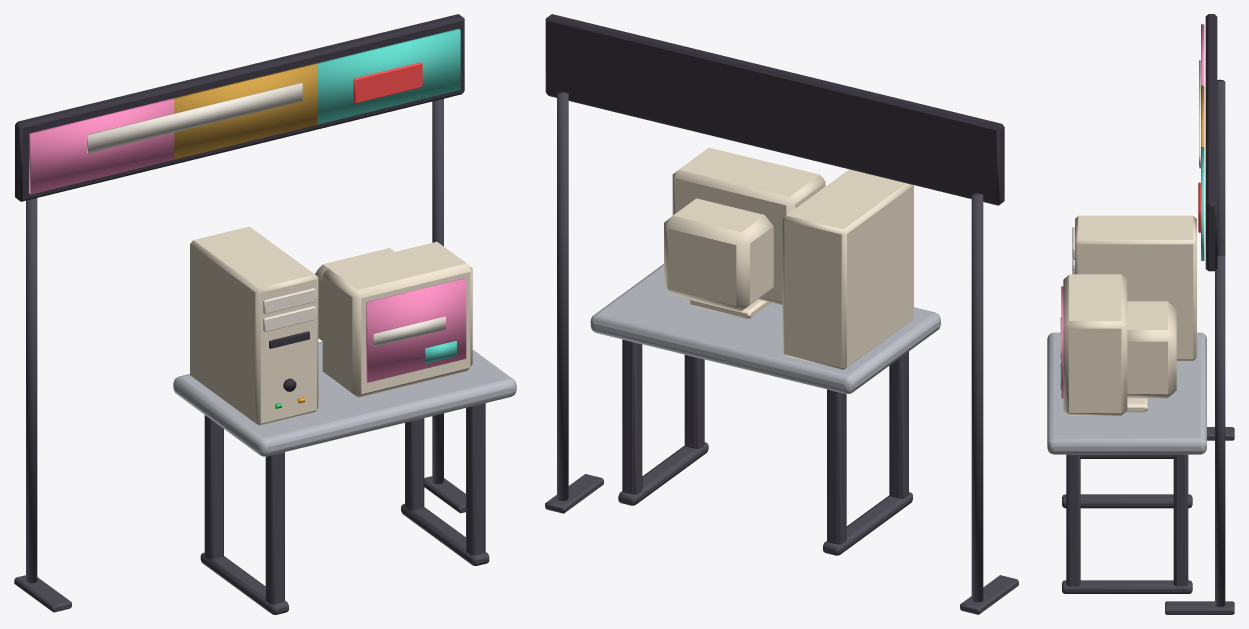
File: dotcom_banner_l1.glb
3 renders of one model, left to right at view 1: azimuth 30°, elevation 25°; view 2: azimuth 150°, elevation 25°; view 3: azimuth 270°, elevation 25°, orthographic. The views are drawn at different scales.
Visible parts, largest first — view 1: dotcom_banner_l1; view 2: dotcom_banner_l1; view 3: dotcom_banner_l1.
Boxes of the visible parts, <box> form: dotcom_banner_l1: <box>14,14,516,614</box>; dotcom_banner_l1: <box>545,14,1018,614</box>; dotcom_banner_l1: <box>1047,14,1234,614</box>.
Size of the model in its own units: 1.56 by 1.58 by 0.645.
